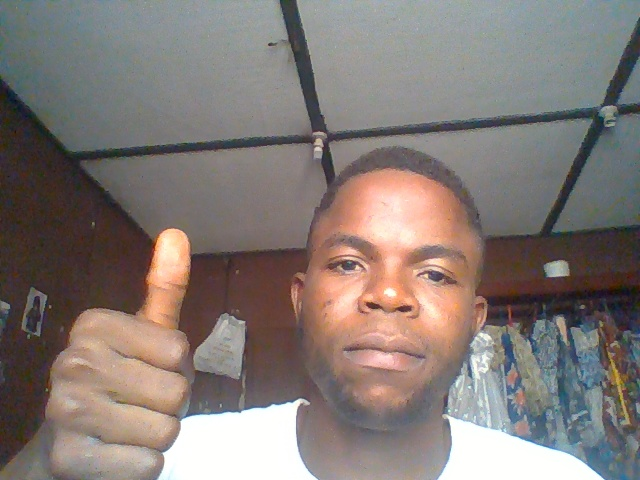Thumbup: (43, 226, 232, 473)
